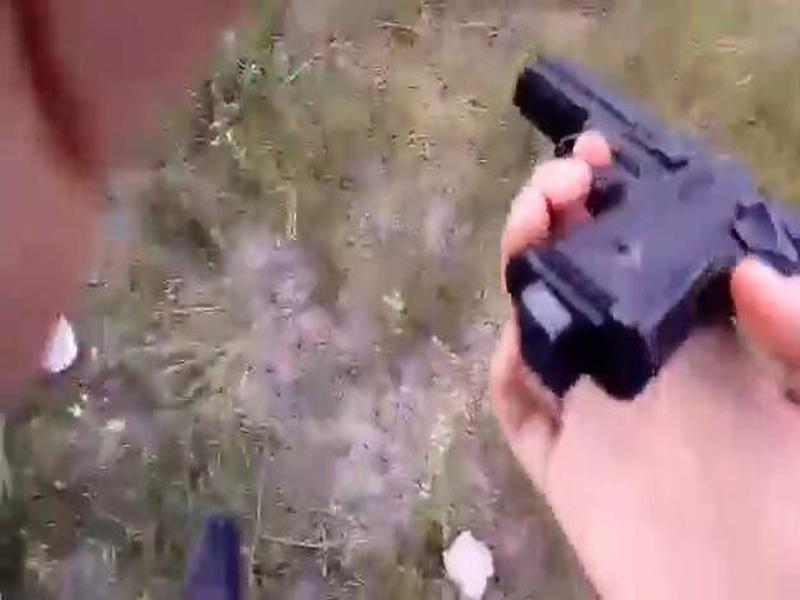Pistola: (480, 26, 800, 384)
